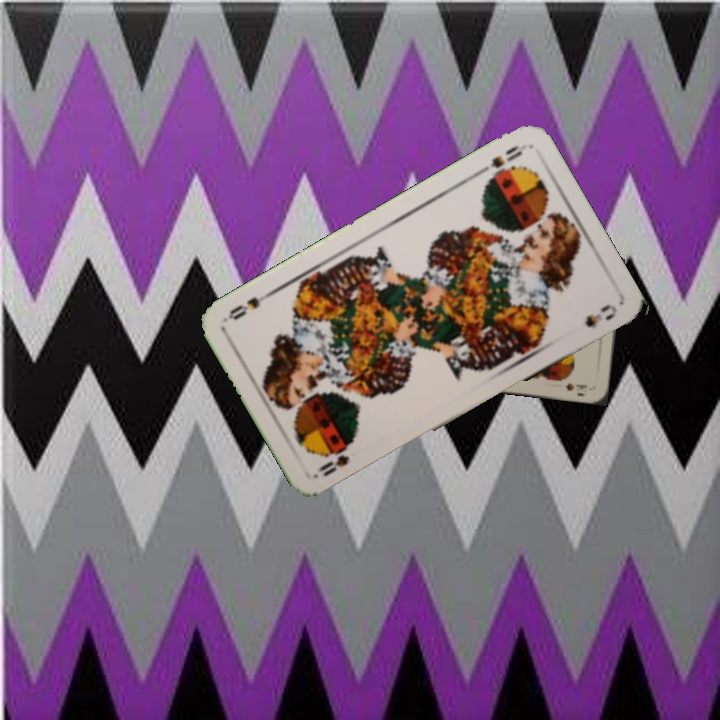SO: (473, 141, 525, 183), (314, 450, 352, 479)
